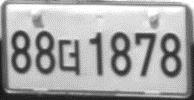1: (89, 31, 103, 76)
7: (132, 32, 157, 77)
8: (109, 30, 132, 77), (159, 32, 182, 77), (10, 29, 31, 74), (34, 30, 55, 74)
더: (58, 38, 81, 76)
